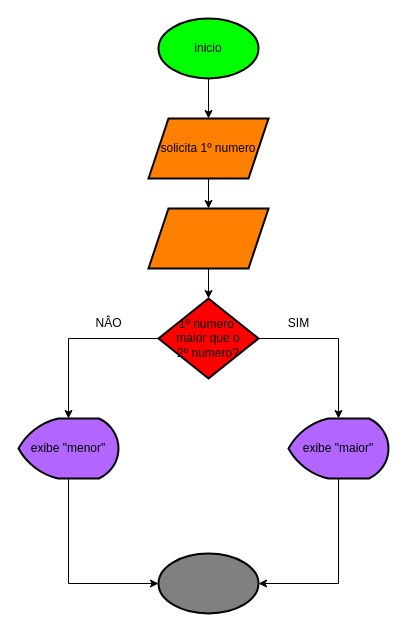
Some shapes in this 406 by 631 pixel diagram are drawn without their labels. Here are the shapes that lost their labels. From the top down, the box of each, then its label:
(147, 207, 269, 269): solicita 2º numero
(157, 552, 259, 614): fim
